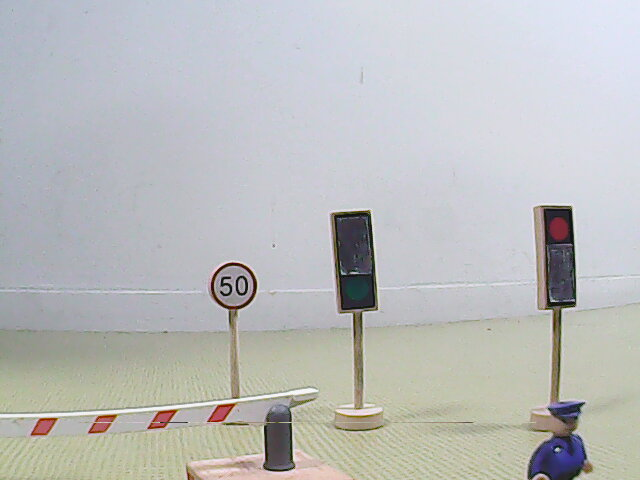barrier: (2, 385, 334, 477)
green_traffic_sign: (333, 212, 378, 313)
person: (528, 399, 597, 480)
red_traffic_sign: (534, 207, 575, 309)
sign_50: (208, 260, 258, 311)
